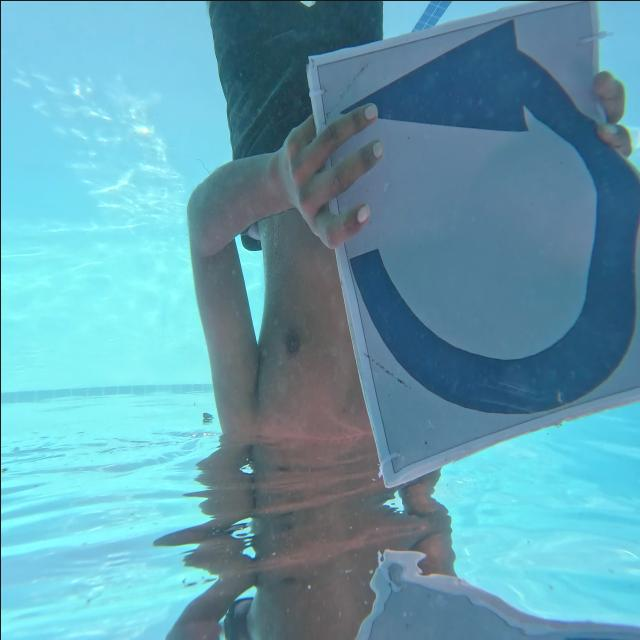blue_side: (308, 0, 636, 485)
